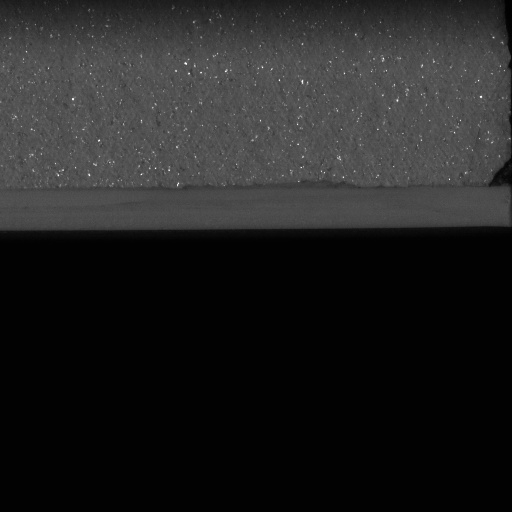bengque: (485, 159, 511, 193)
